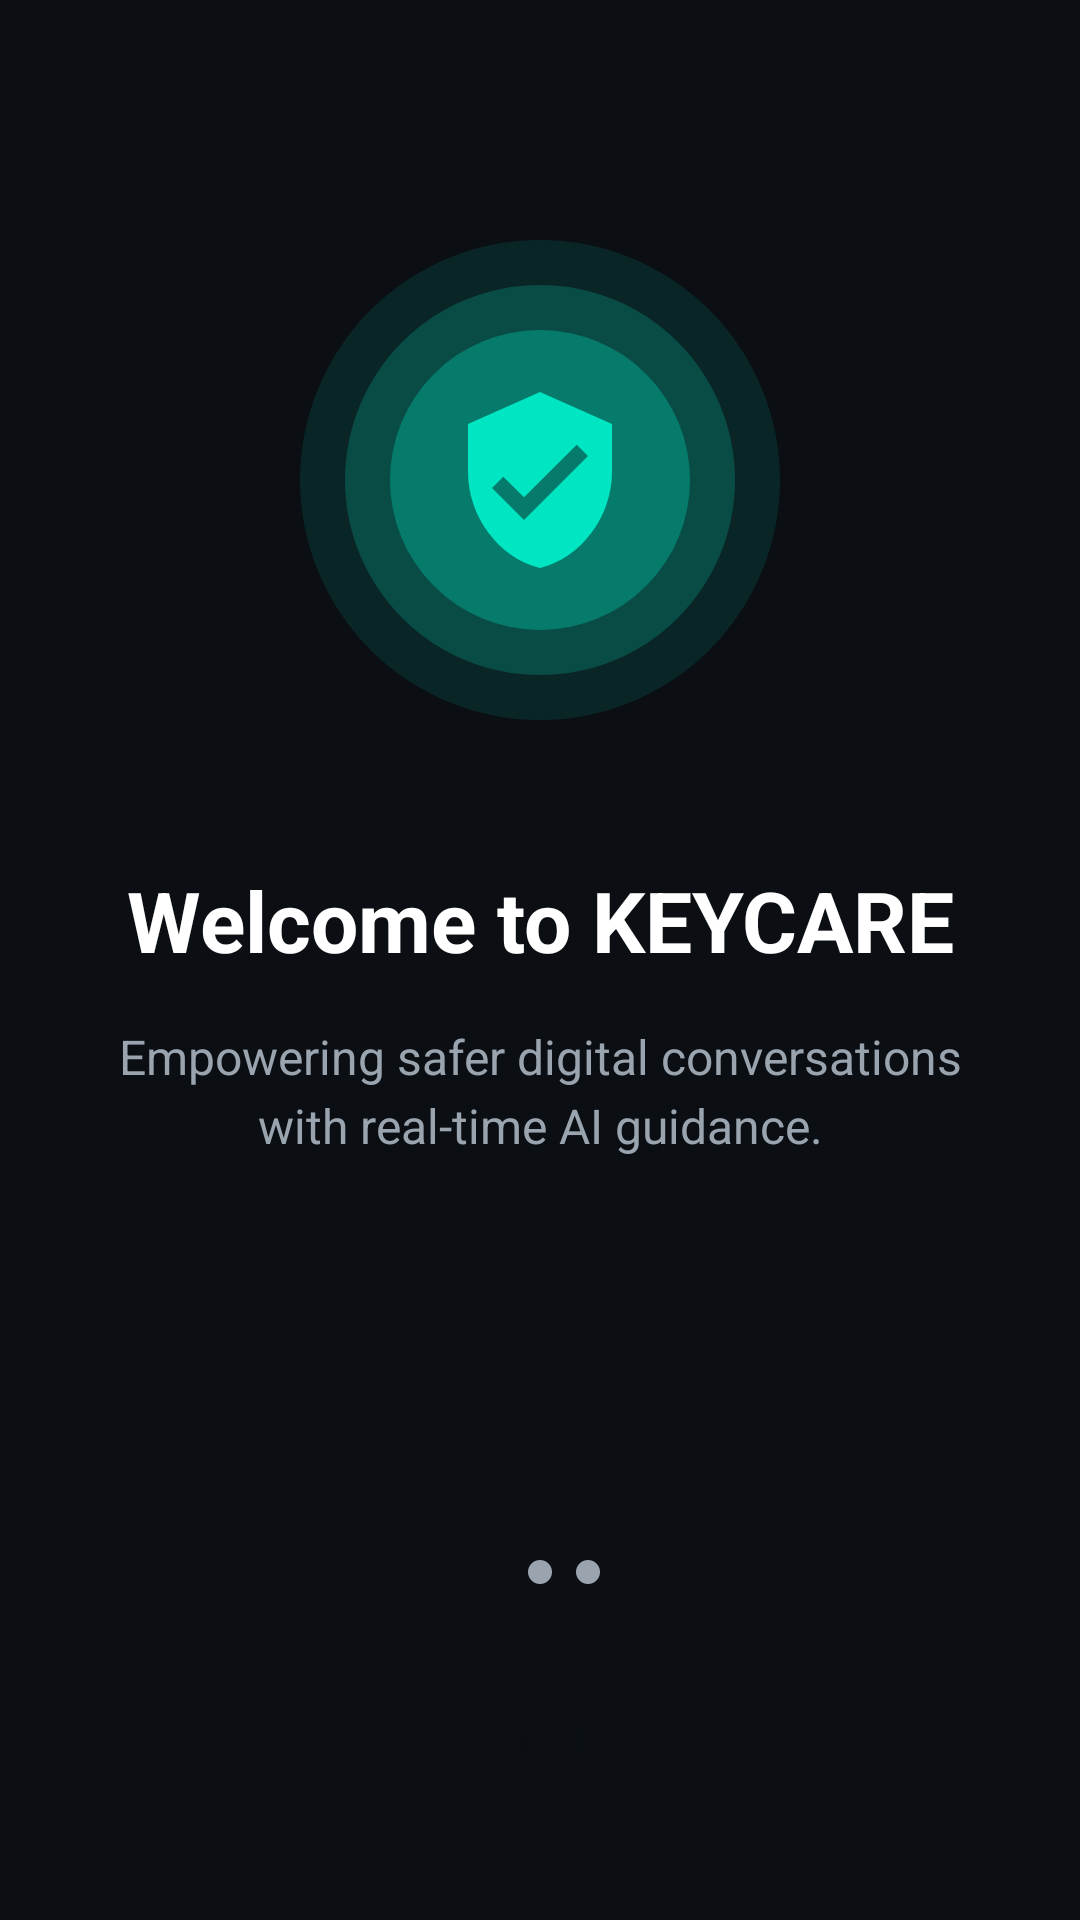

Icon bounding boxes for this 1080x1920 phone screenshot, format (x1, y1, x2, y2):
dot: (528, 1560, 552, 1584), (576, 1560, 600, 1584)
shield: (468, 392, 612, 568)
